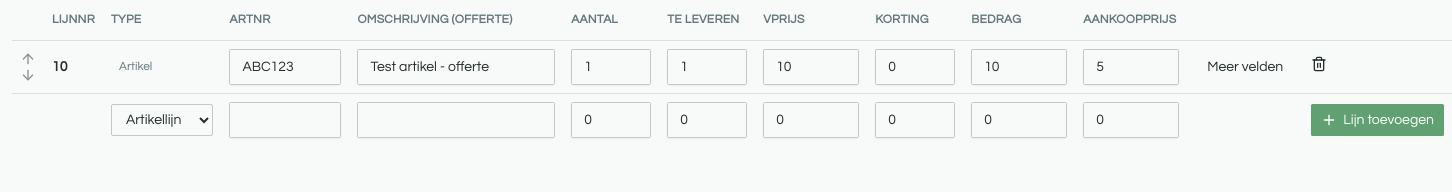
it: OfferteLijnenEditor - persisted mode › shows the server's mutual-exclusivity/precondition error verbatim and does not update the list when adding a line fails
Select "Subtotaal" in the dropdown named "Type nieuwe lijn" at (162, 120), box [111,104,213,136]
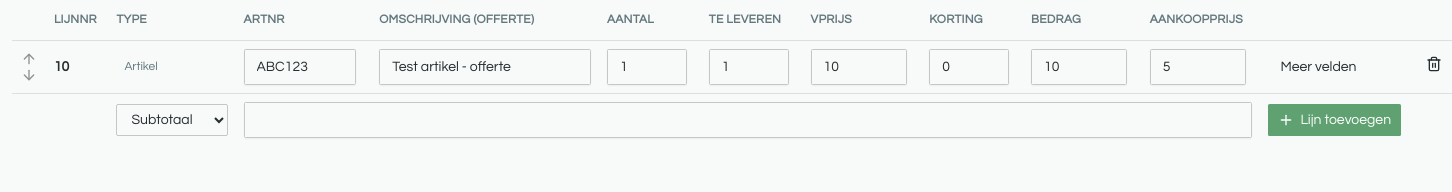
Click the button "Lijn toevoegen" at (1335, 120), box [1268,104,1401,136]
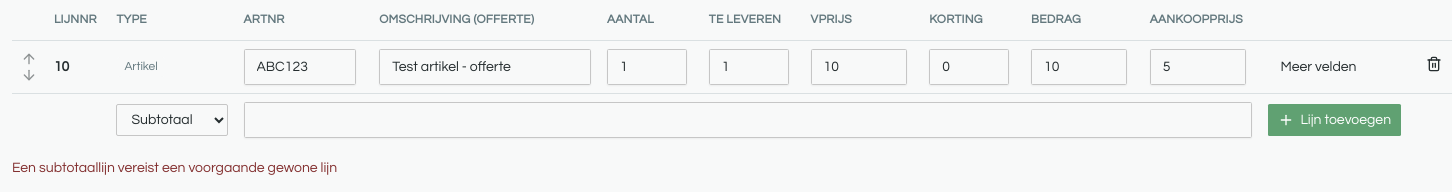
Check: the text "Een subtotaallijn vereist een voorgaande gewone lijn" is shown, box [12,160,337,174]
